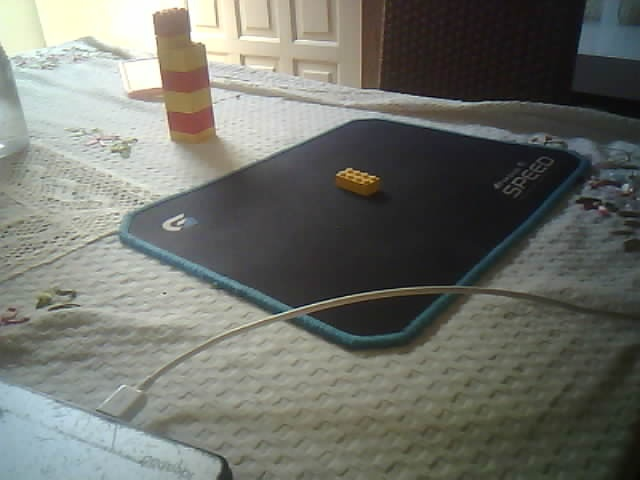lego: (151, 7, 215, 144), (335, 166, 381, 197)
